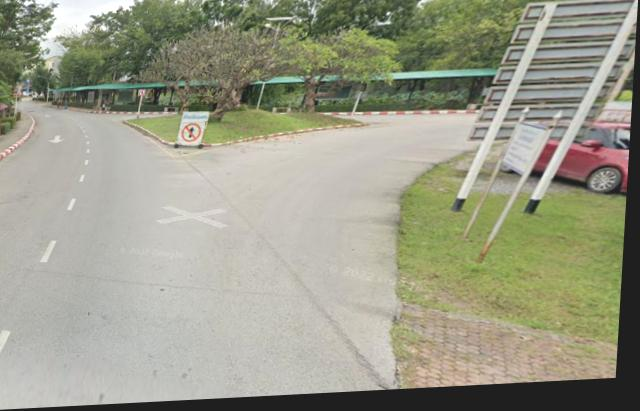not_go_straight: (181, 125, 206, 146), (140, 91, 146, 97)
